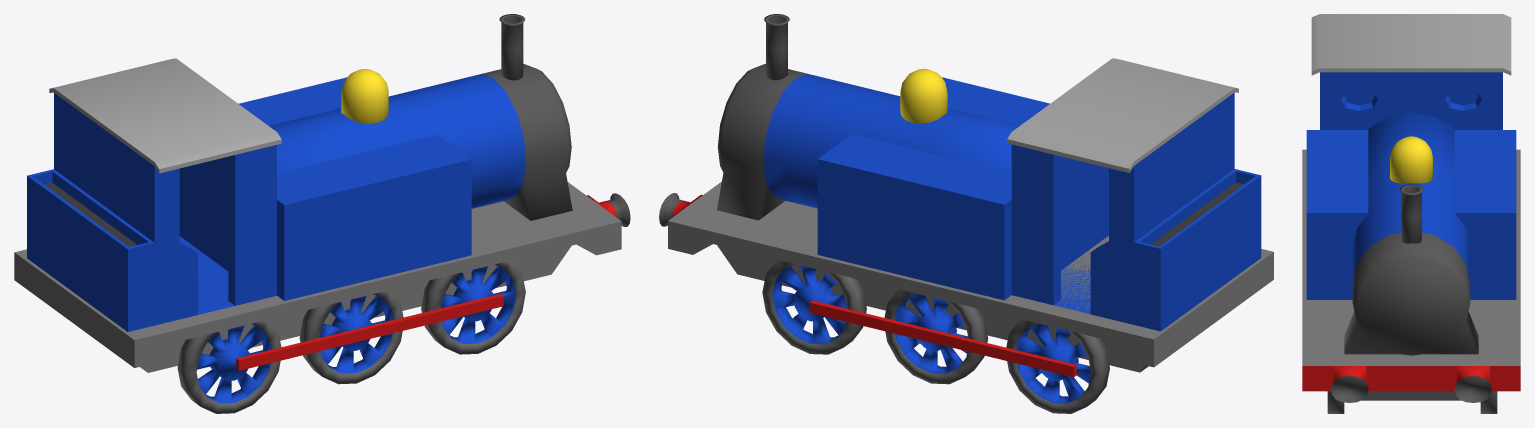
Rendered from pclass.obj.
3 renders of one model, left to right at view 1: azimuth 30°, elevation 25°; view 2: azimuth 150°, elevation 25°; view 3: azimuth 270°, elevation 25°, orthographic. The views are drawn at different scales.
Parts seen in each view (by area): view 1: cube2, cylinder3, base, cylinder6, cylinder6_copy8, cylinder6_copy7, right bar, sphere6, cylinder5; view 2: cube2, cylinder3, base, cylinder6_copy11, cylinder6_copy9, cylinder6_copy10, left bar, sphere6, cylinder5; view 3: cube2, cylinder3, base, sphere6, cylinder5, cylinder6_copy11, cylinder6_copy8.
Boxes of the visible parts, <box> form: cube2: <box>27,58,471,331</box>; cylinder3: <box>269,63,572,220</box>; base: <box>14,182,630,372</box>; cylinder6: <box>177,320,281,413</box>; cylinder6_copy8: <box>421,260,525,354</box>; cylinder6_copy7: <box>299,290,403,384</box>; right bar: <box>236,294,503,370</box>; sphere6: <box>341,69,388,123</box>; cylinder5: <box>499,14,525,80</box>; cube2: <box>817,58,1261,331</box>; cylinder3: <box>717,63,1019,220</box>; base: <box>659,181,1273,372</box>; cylinder6_copy11: <box>762,260,866,354</box>; cylinder6_copy9: <box>1006,319,1109,413</box>; cylinder6_copy10: <box>884,289,988,384</box>; left bar: <box>809,300,1076,377</box>; sphere6: <box>900,68,947,123</box>; cylinder5: <box>764,14,789,80</box>; cube2: <box>1306,14,1516,299</box>; cylinder3: <box>1344,112,1478,355</box>; base: <box>1302,149,1520,402</box>; sphere6: <box>1390,136,1432,183</box>; cylinder5: <box>1399,184,1423,243</box>; cylinder6_copy11: <box>1480,391,1497,413</box>; cylinder6_copy8: <box>1327,391,1344,413</box>.
Bounding box in the file's own units: 4.2 × 2.2 × 1.71.
